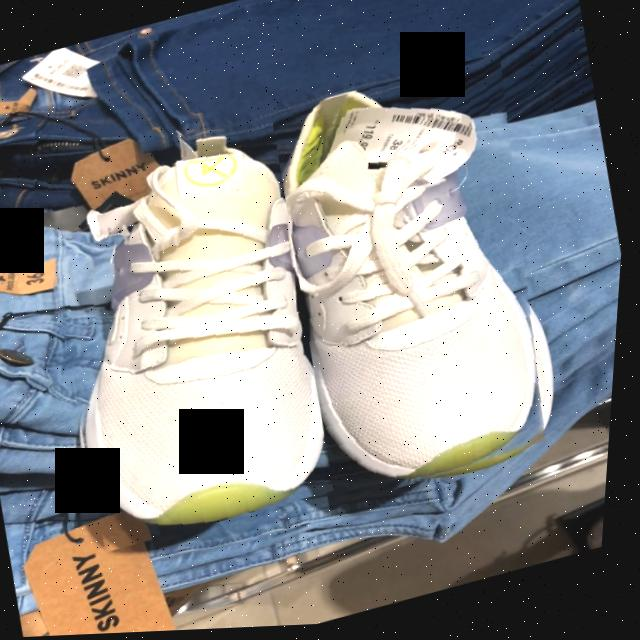shoe: (283, 94, 547, 484), (74, 141, 330, 531)
